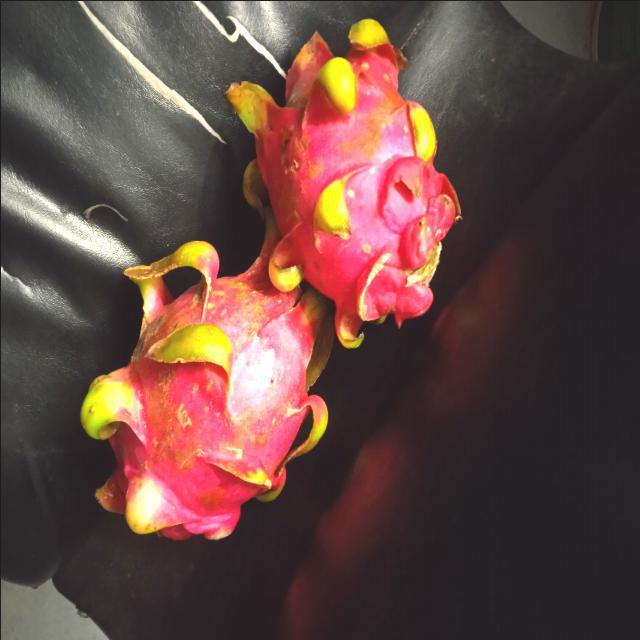do: (224, 15, 464, 348), (78, 244, 330, 548)
